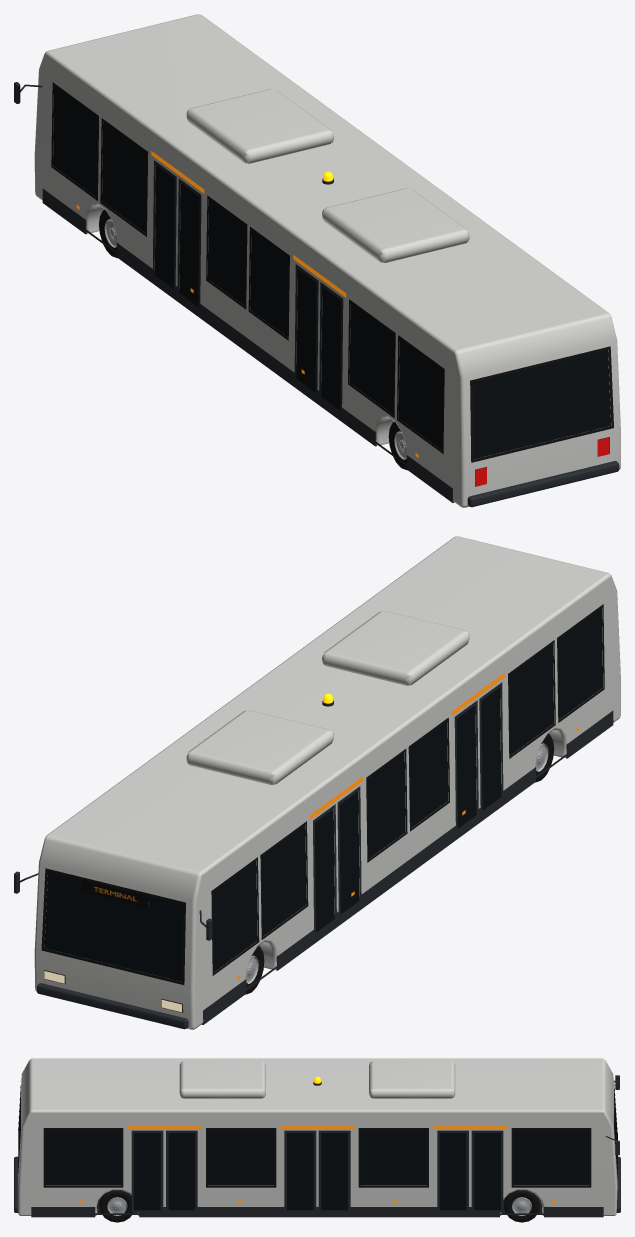
File: apron_bus.glb
The picture shows the model from 3 angles, top to bottom: view 1: azimuth 30°, elevation 25°; view 2: azimuth 150°, elevation 25°; view 3: azimuth 270°, elevation 25°; orthographic projection. The views are drawn at different scales.
Parts seen in each view (by area): view 1: Body, Wheels; view 2: Body, Wheels; view 3: Body, Wheels.
Part boxes in pixels (bbox=[...]): Body: bbox=[14, 14, 620, 507]; Wheels: bbox=[99, 209, 407, 470]; Body: bbox=[14, 536, 620, 1029]; Wheels: bbox=[245, 734, 554, 994]; Body: bbox=[14, 1058, 620, 1217]; Wheels: bbox=[99, 1190, 539, 1222].
Size of what is drawn, in the model's own units: 3.67 by 3.19 by 14.1.
Materials: 8 (2 with a texture image).
